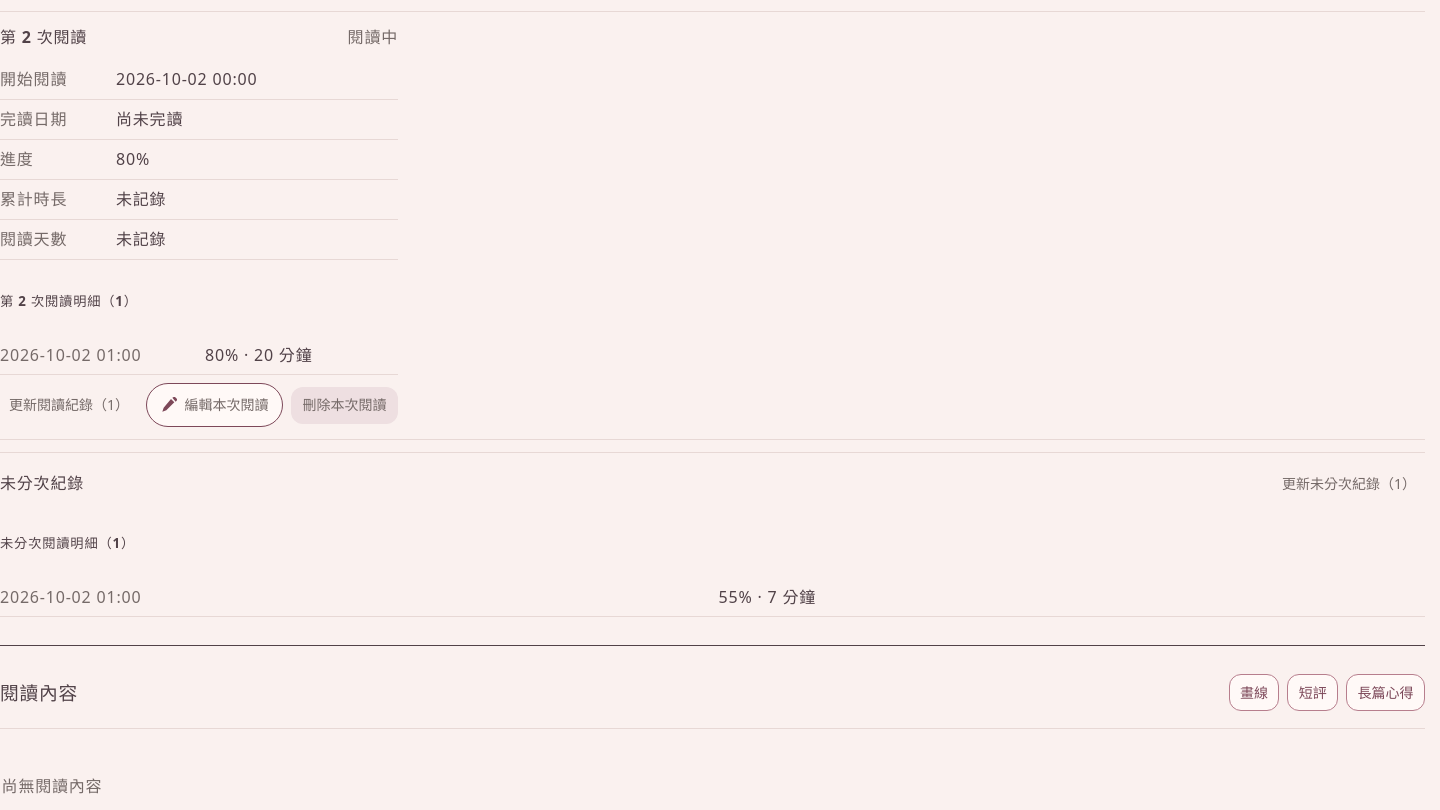
Test case: marks only the selected reading complete without inventing progress or adding duration
The image size is (1440, 810).
(page scrolled)
Click the button "更新閱讀紀錄（1）" at (69, 405), box [0, 387, 138, 424]
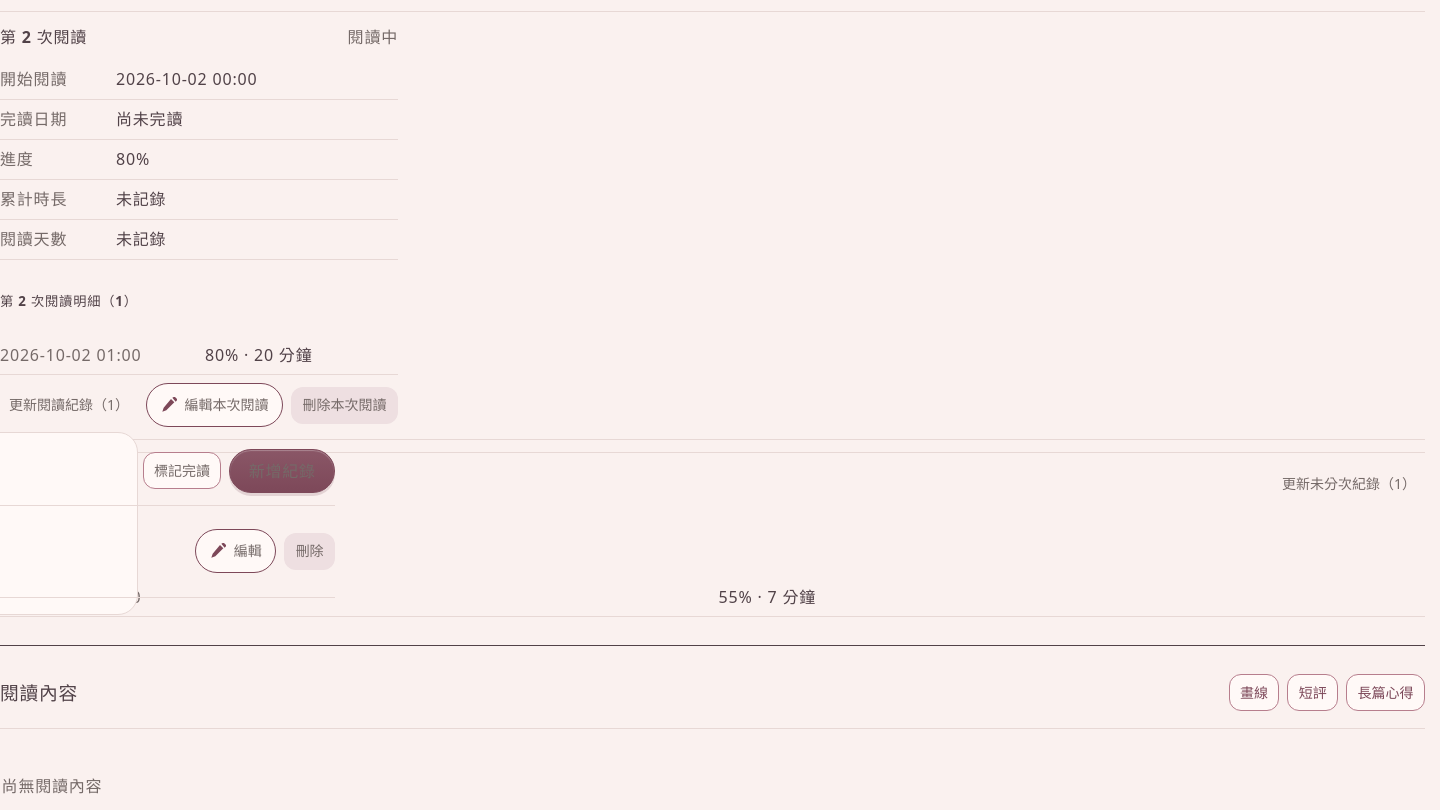
Click the button "標記完讀" at (182, 471), box [143, 452, 221, 489]
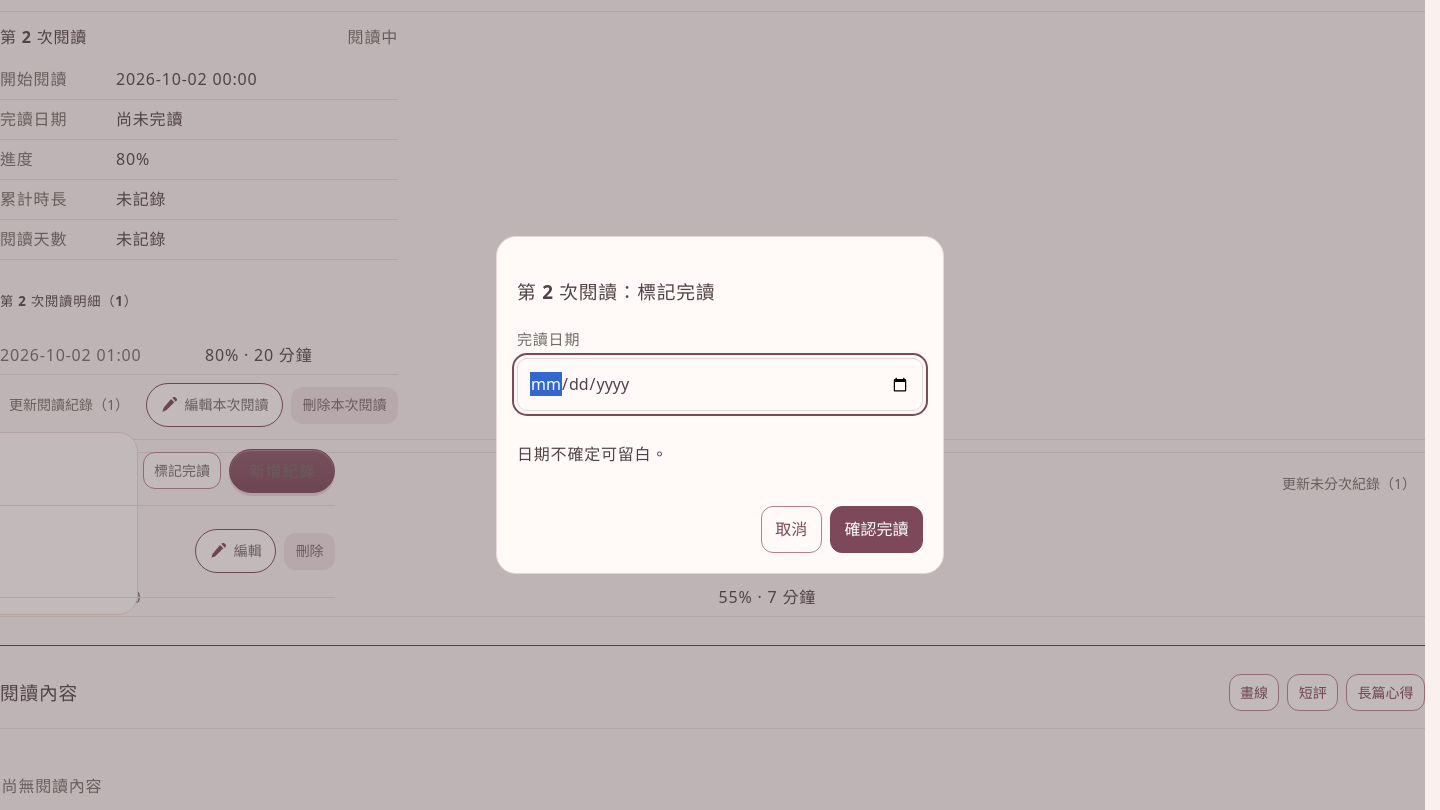
Type "2026-10-05" into the date field labelled "完讀日期" at (720, 385), box [517, 358, 923, 411]
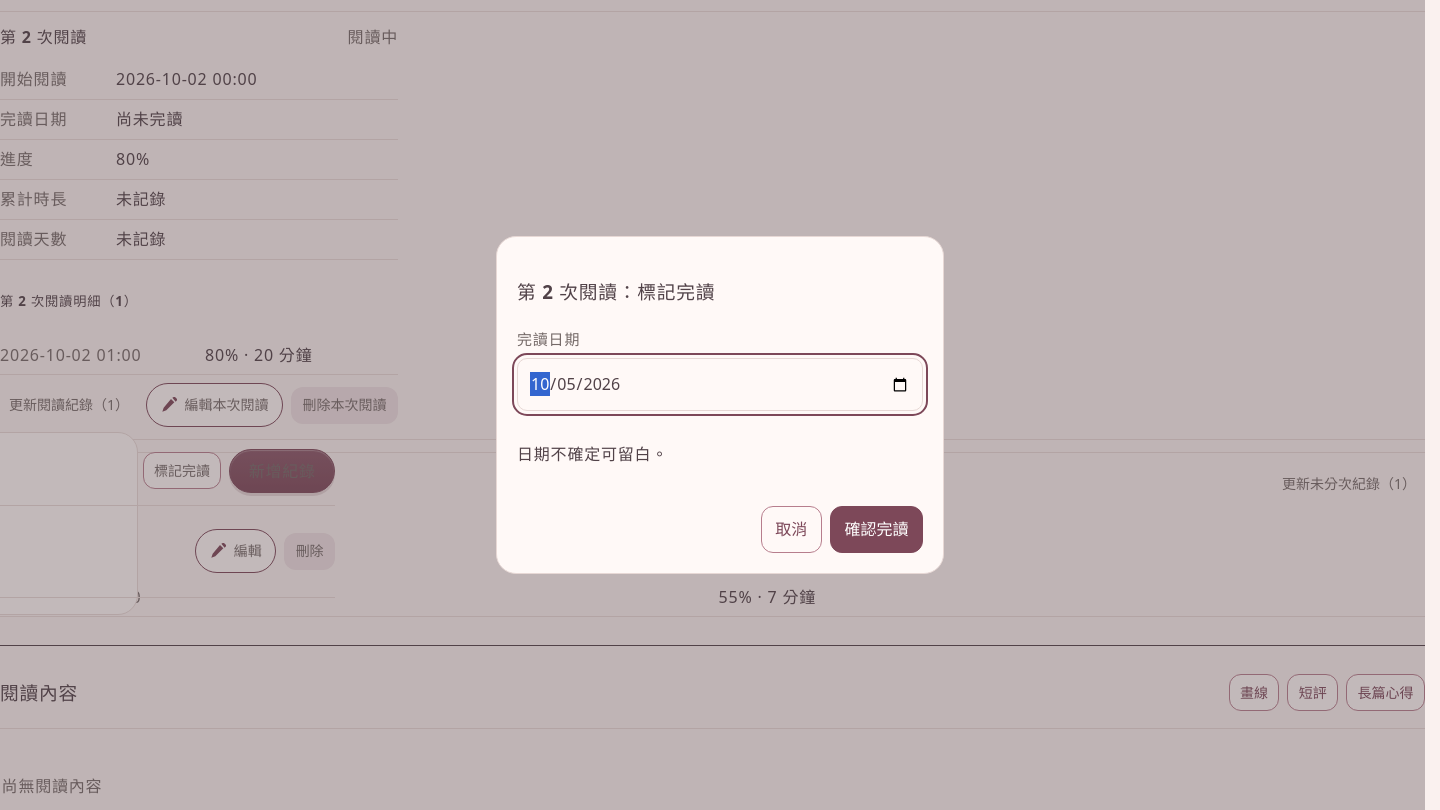
Click the button "確認完讀" at (876, 529), box [830, 506, 923, 553]
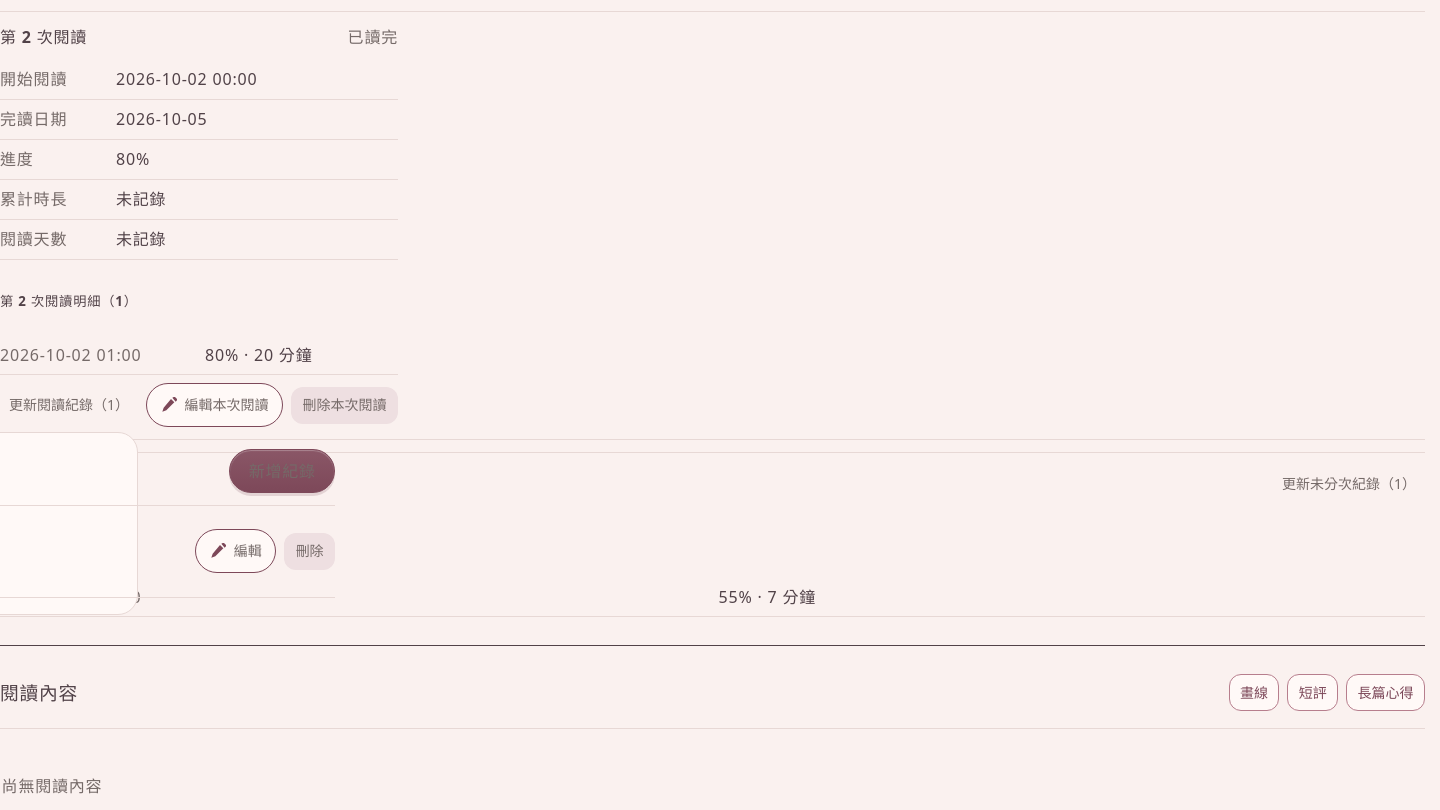
Expected: the heading "第 2 次閱讀：標記完讀" is gone
Expected: the text "已讀完" is shown, [348, 24, 398, 51]
